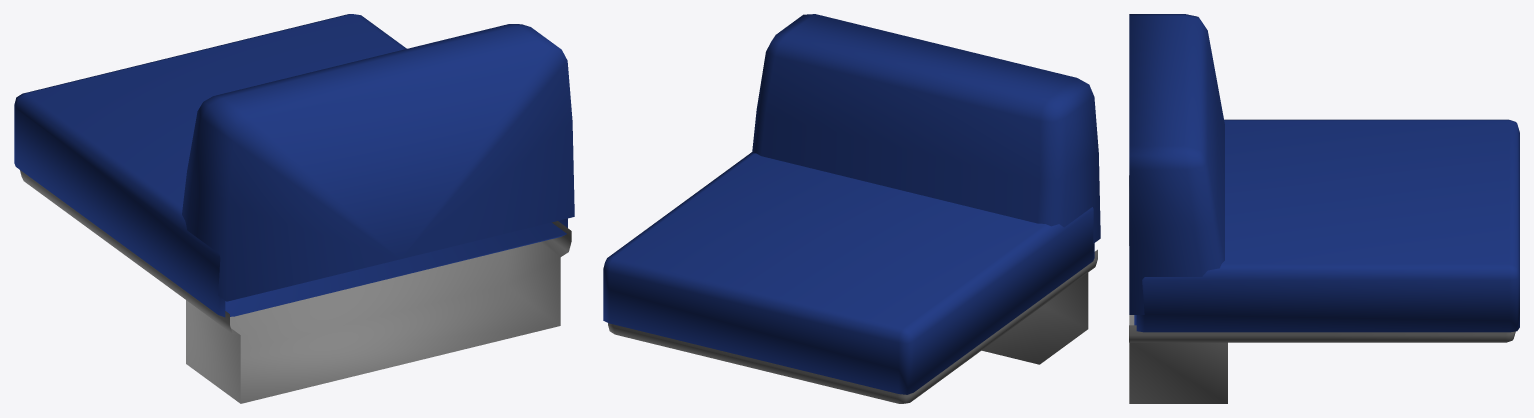
The model's file is ML_sofa_Sit.fbx.
3 views of the same model, side by side, from view 1: azimuth 30°, elevation 25°; view 2: azimuth 150°, elevation 25°; view 3: azimuth 270°, elevation 25° (orthographic). The views are drawn at different scales.
Parts seen in each view (by area): view 1: Object011; view 2: Object011; view 3: Object011.
Boxes of the visible parts, x1,y1,x2,y2 form: Object011: (14,14,574,403); Object011: (603,14,1100,403); Object011: (1129,14,1519,403).
Bounding box in the file's own units: 116 × 88.83 × 125.
